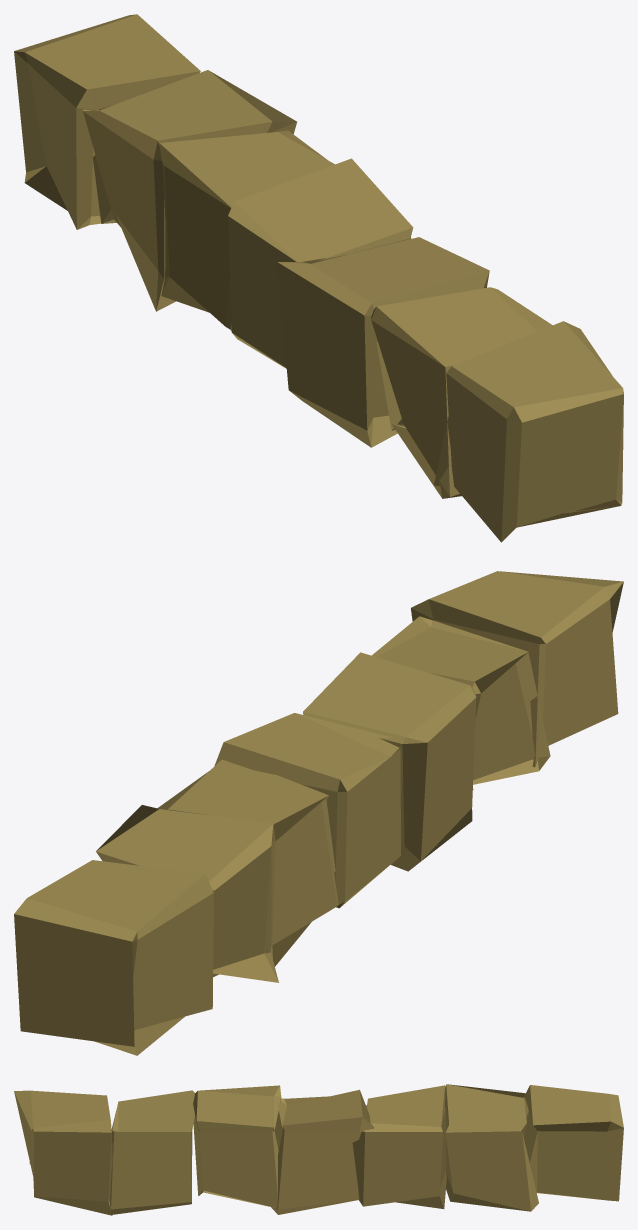
The model's file is egypt_door2.fbx.
3 renders of one model, top to bottom at view 1: azimuth 30°, elevation 25°; view 2: azimuth 150°, elevation 25°; view 3: azimuth 270°, elevation 25°, orthographic. The views are drawn at different scales.
Parts seen in each view (by area): view 1: Cube; view 2: Cube; view 3: Cube.
Boxes of the visible parts, x1,y1,x2,y2 form: Cube: [14, 14, 623, 542]; Cube: [14, 571, 623, 1055]; Cube: [14, 1084, 623, 1215].
Size of the model in its own units: 270 by 269 by 1460.
